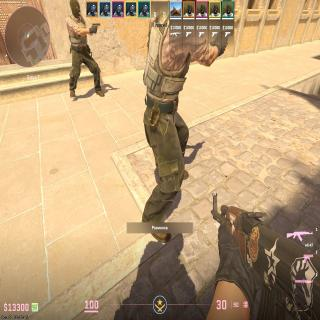T-Body: (143, 0, 195, 223), (66, 0, 91, 96)
T-Head: (70, 0, 80, 18)
